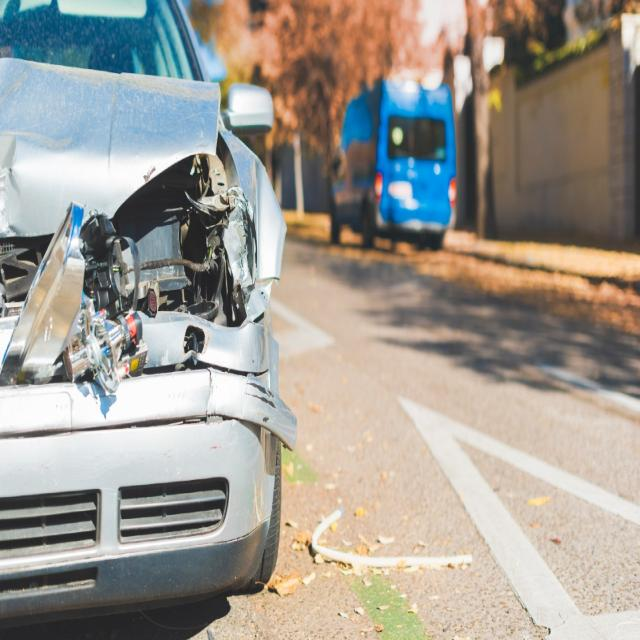Accident: (0, 0, 302, 640)
